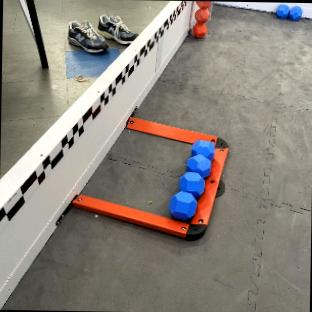Parking-R: (72, 117, 226, 236)
V5_BLUE: (170, 191, 196, 218), (178, 172, 204, 195), (186, 155, 211, 176), (191, 139, 213, 158), (276, 5, 289, 18), (289, 6, 301, 19)
